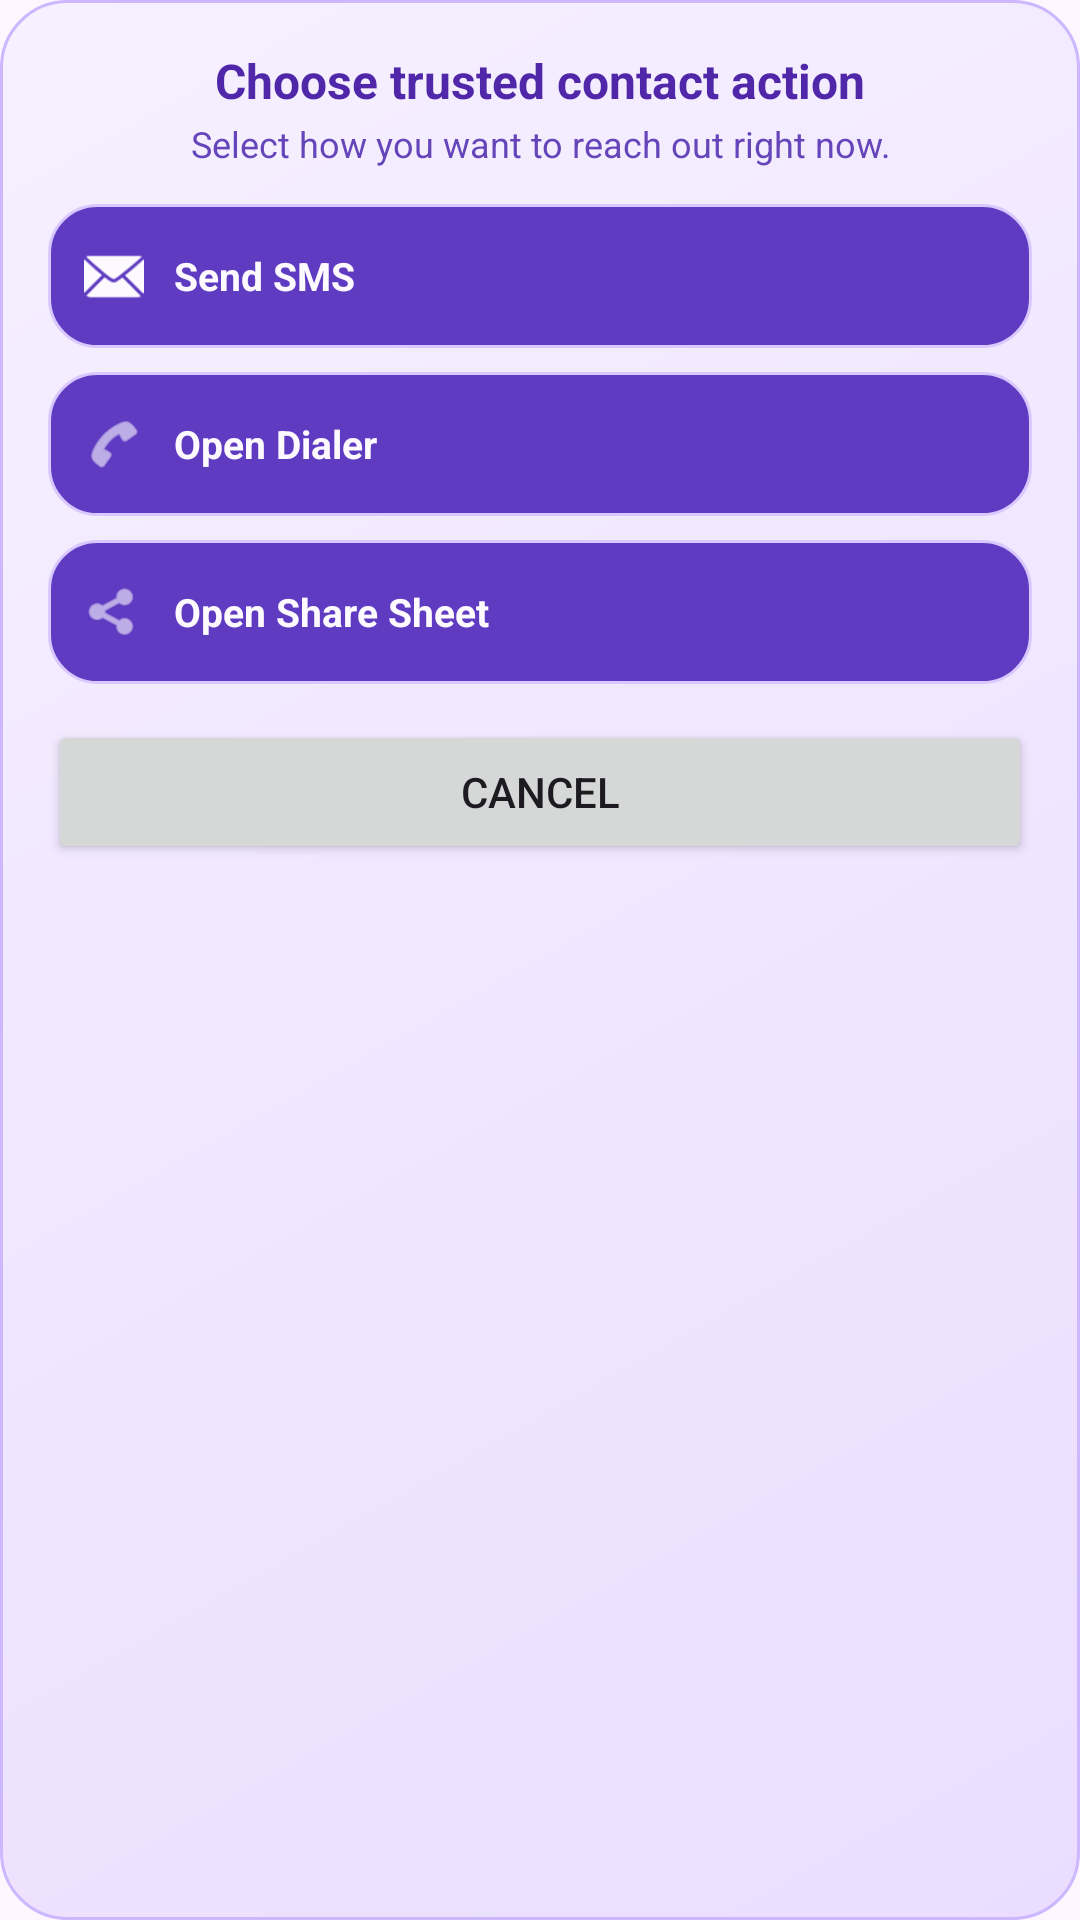

Locate icon controls on the screen. Image size 1080 × 1920, boxes as (x1, y1, x2, y2).
call: (91, 421, 138, 468)
email: (84, 255, 144, 298)
